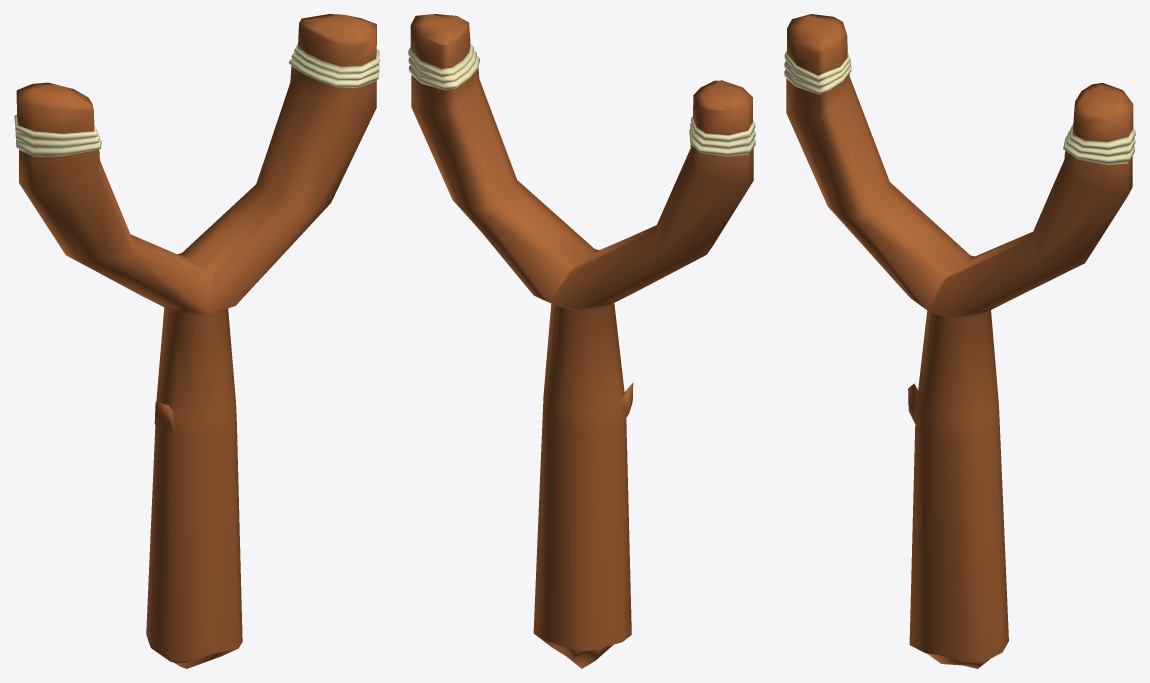
Rendered from Sling.fbx.
The picture shows the model from 3 angles, left to right: view 1: azimuth 30°, elevation 25°; view 2: azimuth 150°, elevation 25°; view 3: azimuth 330°, elevation 25°; orthographic projection.
Parts seen in each view (by area): view 1: Sling; view 2: Sling; view 3: Sling.
Boxes of the visible parts, x1,y1,x2,y2 form: Sling: (14, 14, 379, 668); Sling: (408, 14, 755, 668); Sling: (784, 14, 1135, 668).
Bounding box in the file's own units: 34.96 × 58.27 × 7.91.
Materials: 1 (1 with a texture image).
